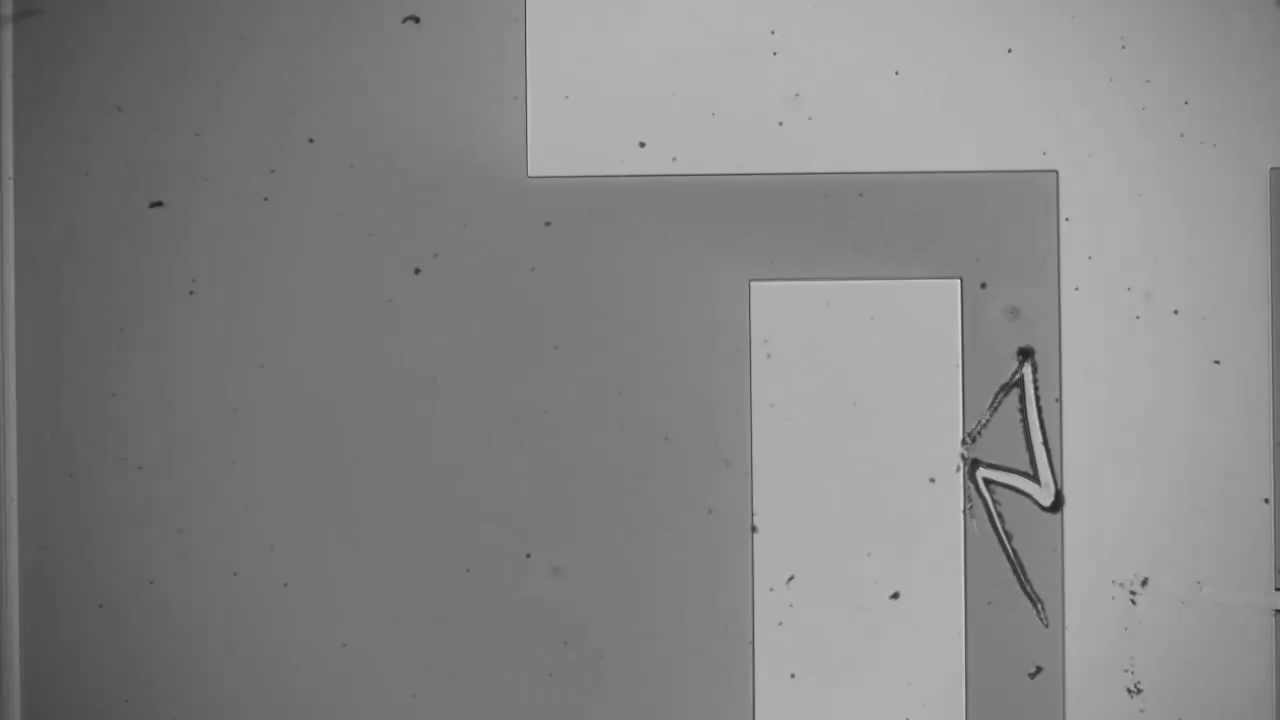Short_circuit: (922, 430, 1084, 521)
